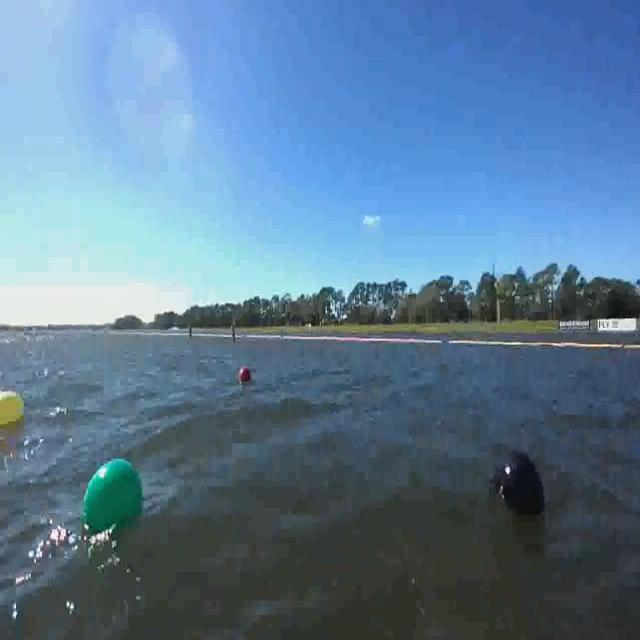blue-buoy: (488, 447, 550, 527)
green-buoy: (78, 455, 148, 541)
red-buoy: (238, 365, 249, 382)
yellow-buoy: (0, 389, 25, 428)
